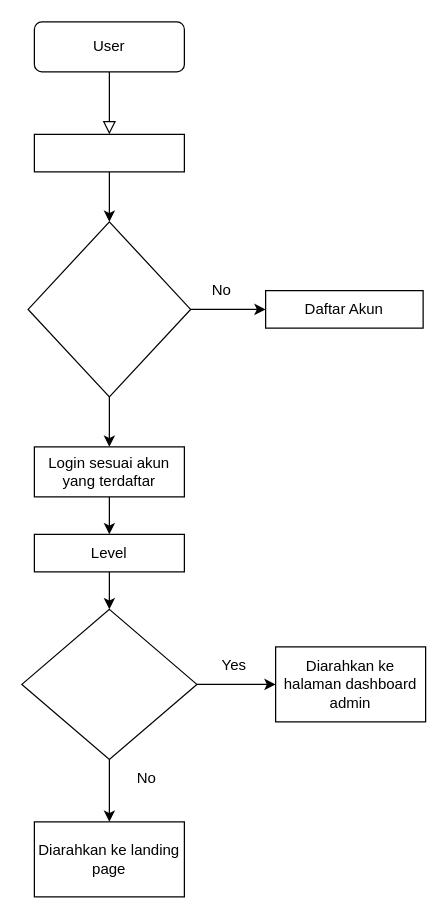
The diagram is 448 pixels wide and 919 high, and some of its shapes have lost their labels. The shapes that lost their labels are listed below. From the top down, each one's centre as x and y in pixels, then its label:
the point at 108,152: Login
the point at 109,309: apakah akun user sudah terdaftar?
the point at 109,683: Apakah user memiliki level 1 atau 2?
